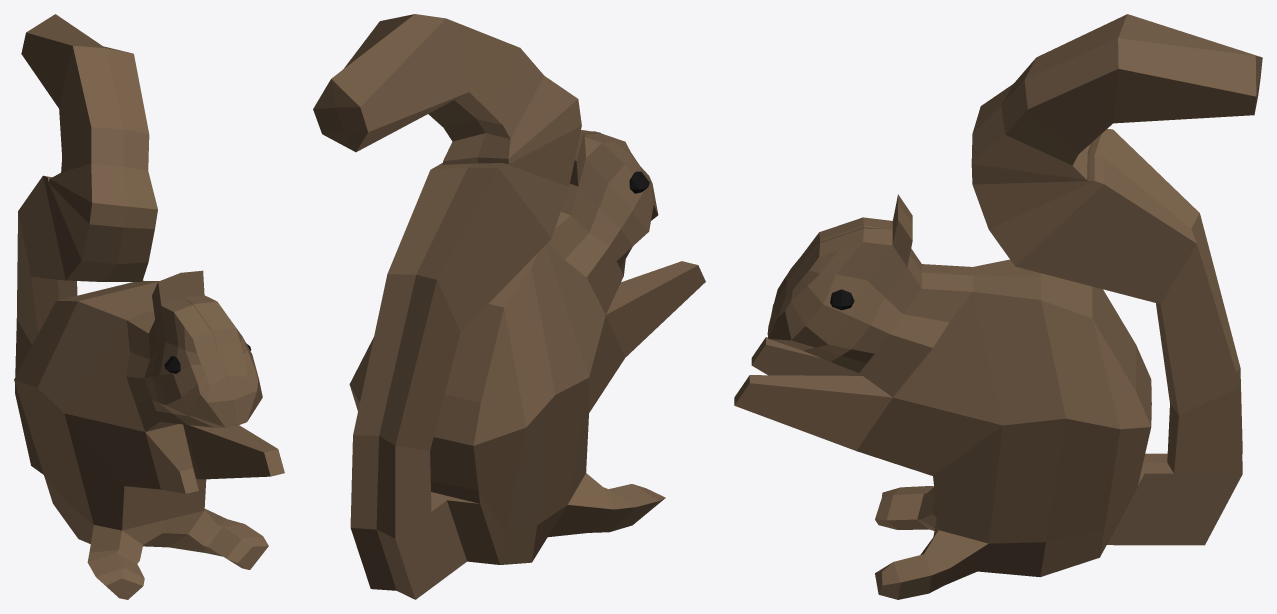
File: squirrel.fbx
The picture shows the model from 3 angles, left to right: view 1: azimuth 30°, elevation 25°; view 2: azimuth 150°, elevation 25°; view 3: azimuth 270°, elevation 25°; orthographic projection. The views are drawn at different scales.
Visible parts, largest first — view 1: squirrel_mock_up; view 2: squirrel_mock_up; view 3: squirrel_mock_up.
Boxes of the visible parts, box(x1,y1,x2,y2) form: squirrel_mock_up: box(14, 14, 284, 599); squirrel_mock_up: box(313, 14, 705, 599); squirrel_mock_up: box(734, 14, 1262, 599).
Bounding box in the file's own units: 405 × 1083 × 950.
